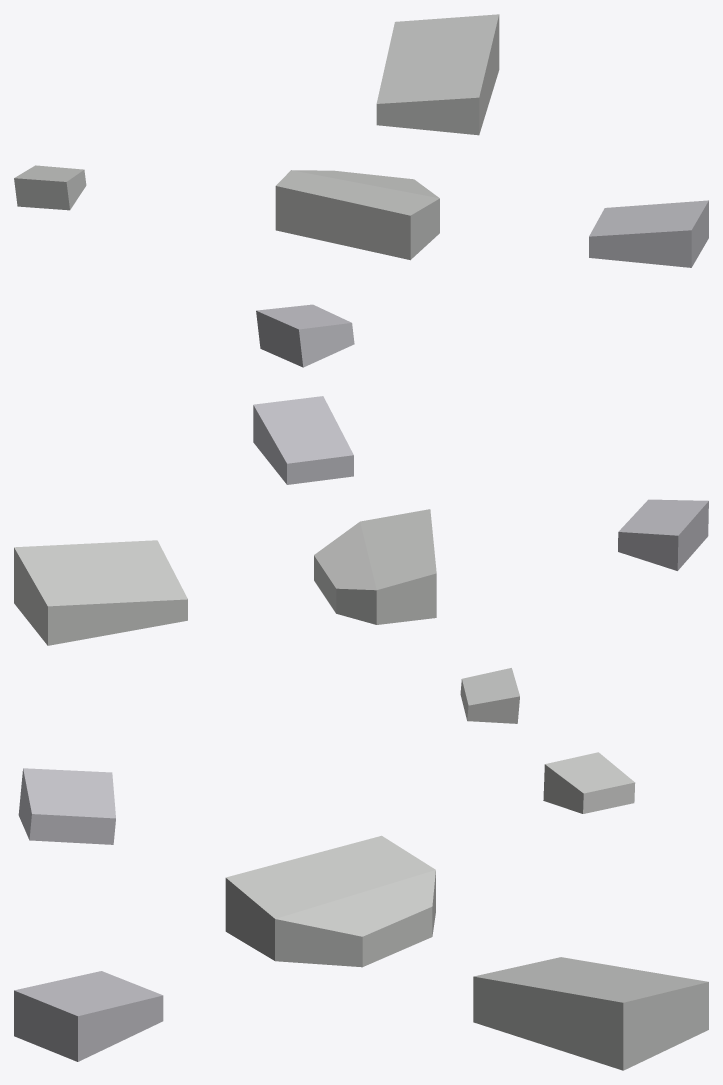
The model's file is Rock_Blocks_s_02.fbx.
3 renders of one model, top to bottom at view 1: azimuth 30°, elevation 25°; view 2: azimuth 150°, elevation 25°; view 3: azimuth 270°, elevation 25°, orthographic. The views are drawn at different scales.
Visible parts, largest first — view 1: Rock_Blocks_s_02; view 2: Rock_Blocks_s_02; view 3: Rock_Blocks_s_02.
Boxes of the visible parts, left/top/right/bottom form: Rock_Blocks_s_02: left=14, top=14, right=708, bottom=367; Rock_Blocks_s_02: left=14, top=396, right=708, bottom=723; Rock_Blocks_s_02: left=14, top=752, right=708, bottom=1070.
Bounding box in the file's own units: 55.48 × 7.41 × 55.46.
